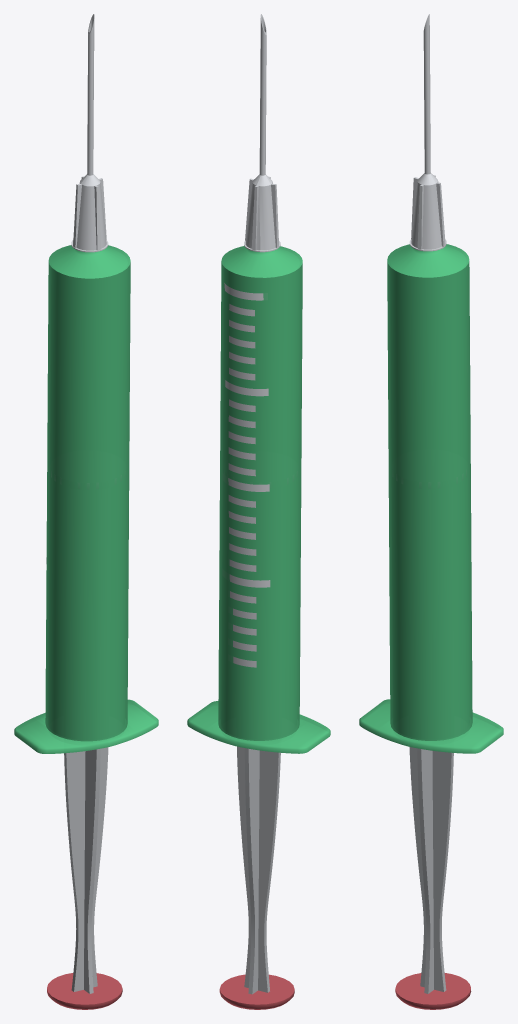
Rendered from revive_needle.glb.
3 renders of one model, left to right at view 1: azimuth 30°, elevation 25°; view 2: azimuth 150°, elevation 25°; view 3: azimuth 330°, elevation 25°, orthographic.
Visible parts, largest first — view 1: revive_needle; view 2: revive_needle; view 3: revive_needle.
Part boxes in pixels (x1,y1,x2,y2): revive_needle: (14, 14, 158, 1009); revive_needle: (187, 14, 330, 1009); revive_needle: (359, 14, 503, 1009).
Size of the model in its own units: 0.0411 by 0.32 by 0.0277.
